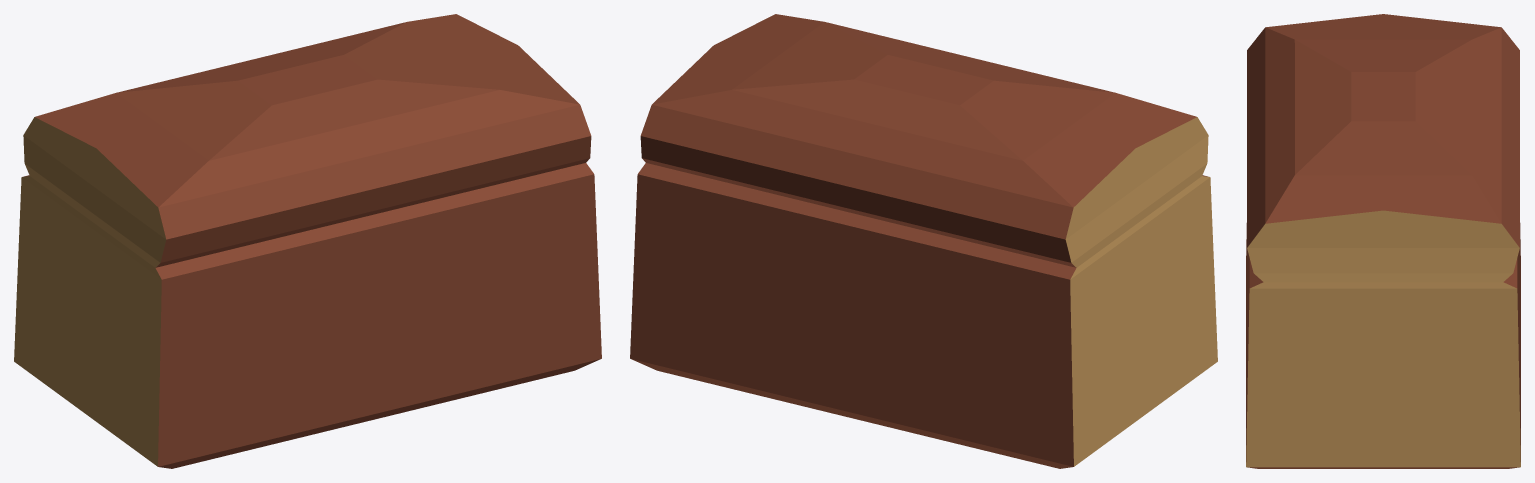
The model's file is Food_BreadLoaf.fbx.
3 renders of one model, left to right at view 1: azimuth 30°, elevation 25°; view 2: azimuth 150°, elevation 25°; view 3: azimuth 270°, elevation 25°, orthographic. The views are drawn at different scales.
Visible parts, largest first — view 1: Cube.141; view 2: Cube.141; view 3: Cube.141.
Part boxes in pixels (x1,y1,x2,y2): Cube.141: [14, 14, 601, 468]; Cube.141: [630, 14, 1217, 468]; Cube.141: [1246, 14, 1520, 468].
Size of the model in its own units: 31.85 by 20 by 17.89.
